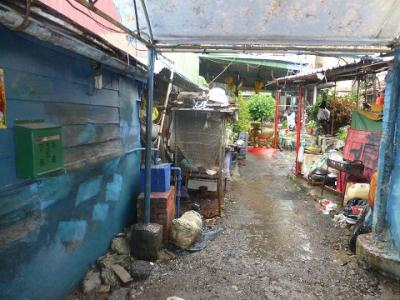box: (139, 184, 175, 246), (139, 163, 171, 192)
